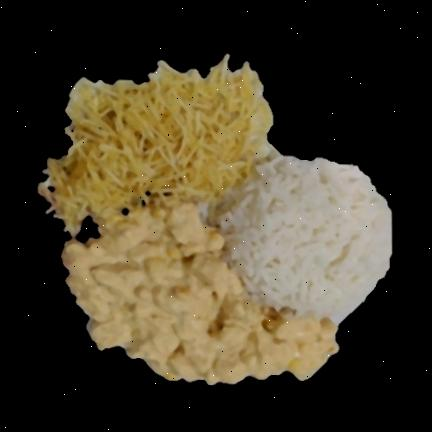chicken: (60, 208, 338, 382)
potato: (39, 68, 265, 237)
rice: (207, 140, 391, 322)
